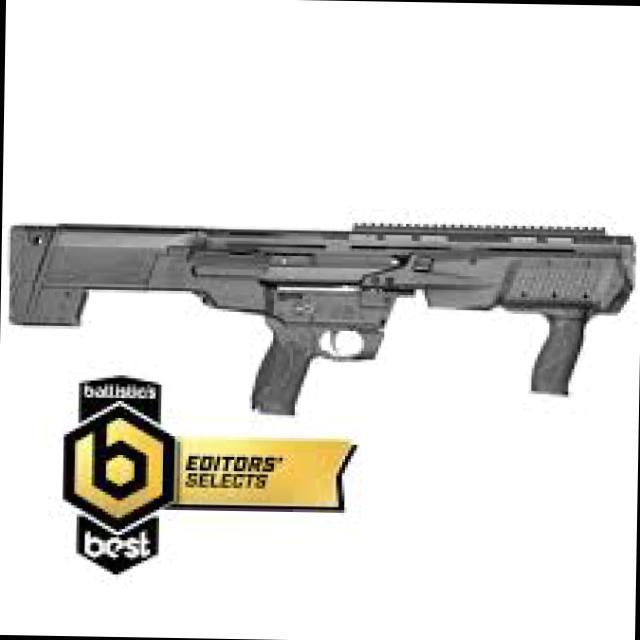long weapon: (5, 206, 630, 409)
